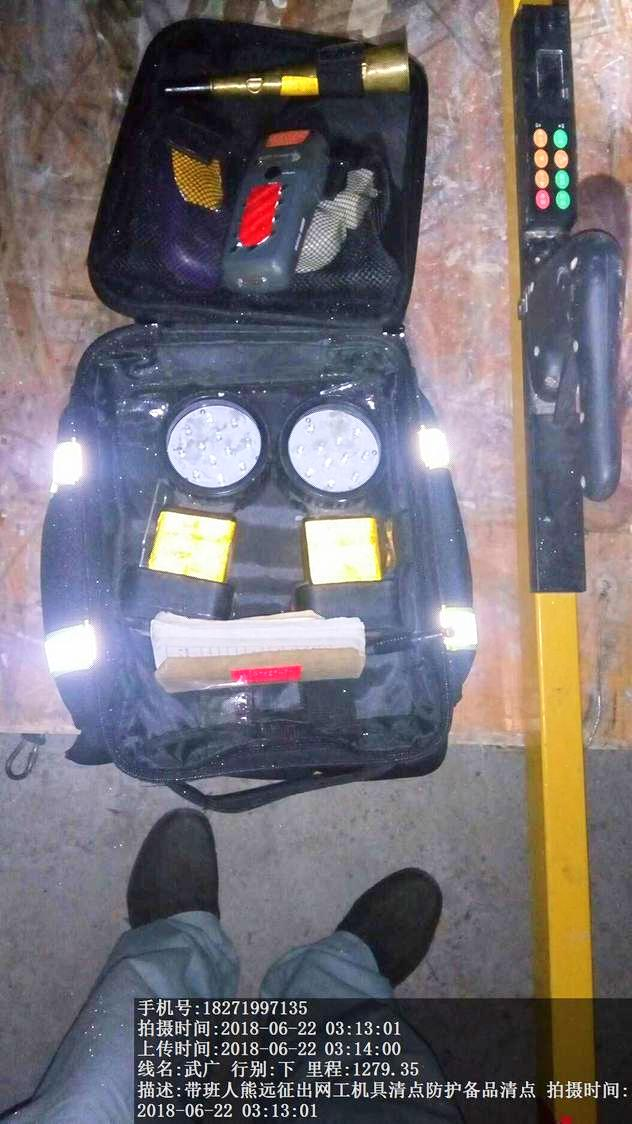GJB: (53, 18, 483, 796)
